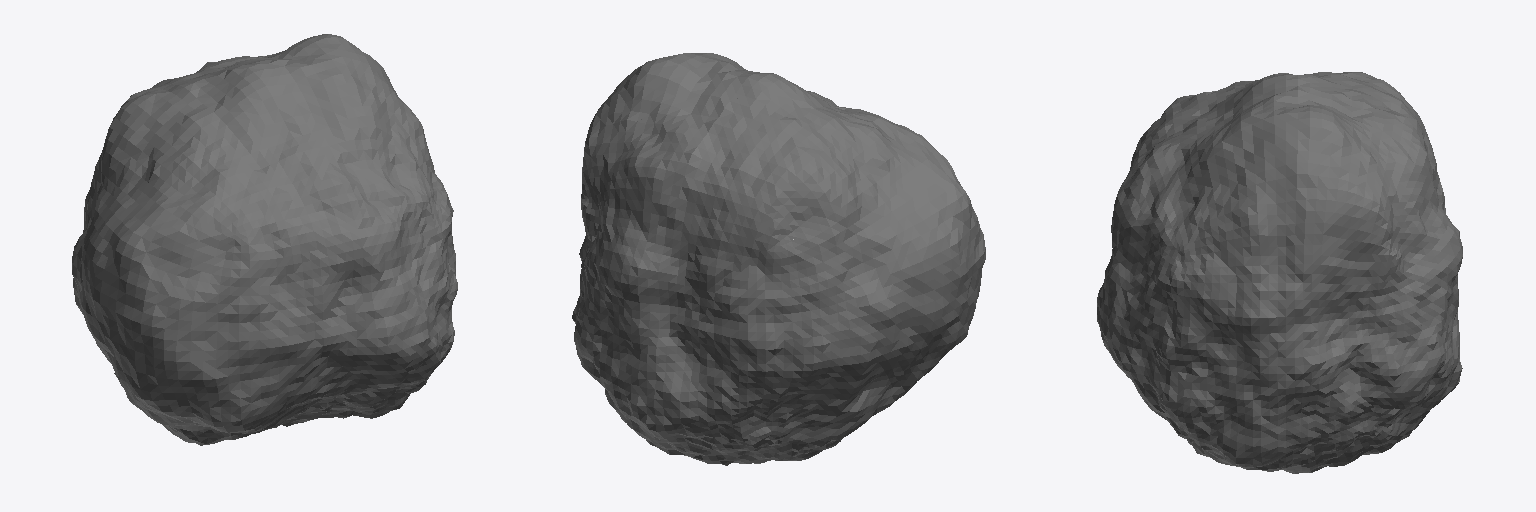
The picture shows the model from 3 angles: view 1: azimuth 30°, elevation 25°; view 2: azimuth 150°, elevation 25°; view 3: azimuth 270°, elevation 25°; orthographic projection.
Parts seen in each view (by area): view 1: Cube; view 2: Cube; view 3: Cube.
Boxes of the visible parts, <box> form: Cube: <box>72,34,457,445</box>; Cube: <box>572,53,985,465</box>; Cube: <box>1097,72,1462,473</box>.
Bounding box in the file's own units: 2.95 × 2.95 × 2.63.
1 materials, 1 textured.